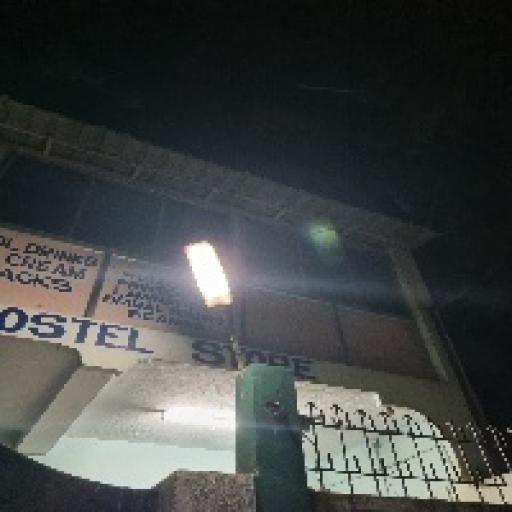Working: (180, 235, 240, 317)
